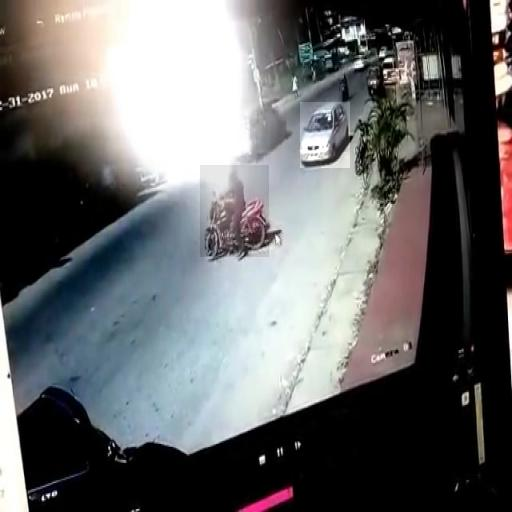小汽车: (300, 102, 350, 168)
自行车: (200, 165, 269, 257)
